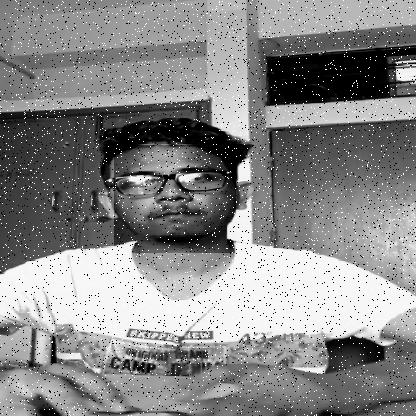Normal: (114, 145, 236, 253)
